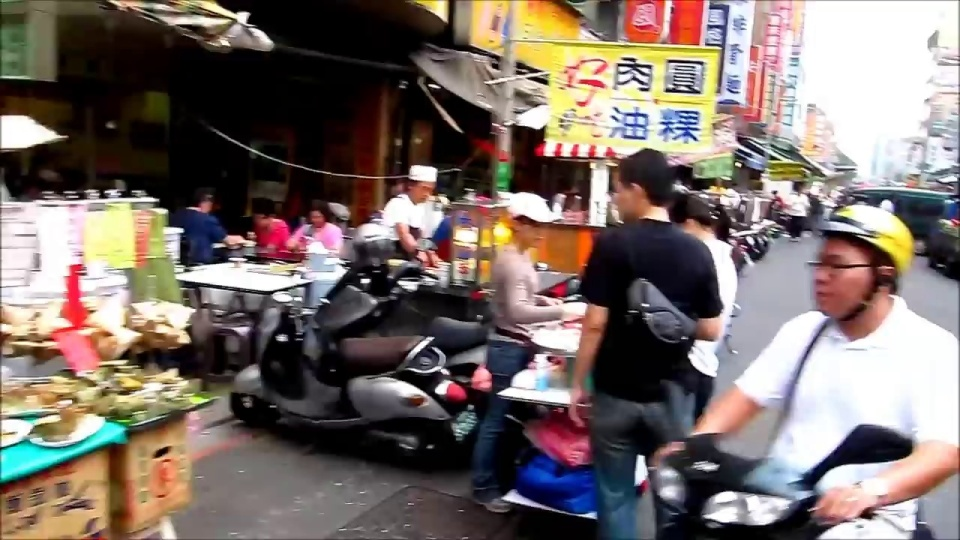person_head: (814, 228, 889, 312), (611, 159, 663, 216), (504, 192, 553, 249), (667, 194, 717, 233), (405, 163, 438, 202), (184, 188, 216, 215), (249, 207, 278, 228), (305, 207, 328, 225), (790, 185, 807, 199)
person_vbox: (651, 195, 958, 538), (566, 155, 728, 540), (465, 182, 575, 524), (661, 189, 739, 426), (376, 155, 456, 277), (172, 179, 228, 273), (237, 194, 295, 261), (285, 198, 344, 260), (777, 174, 817, 244)
